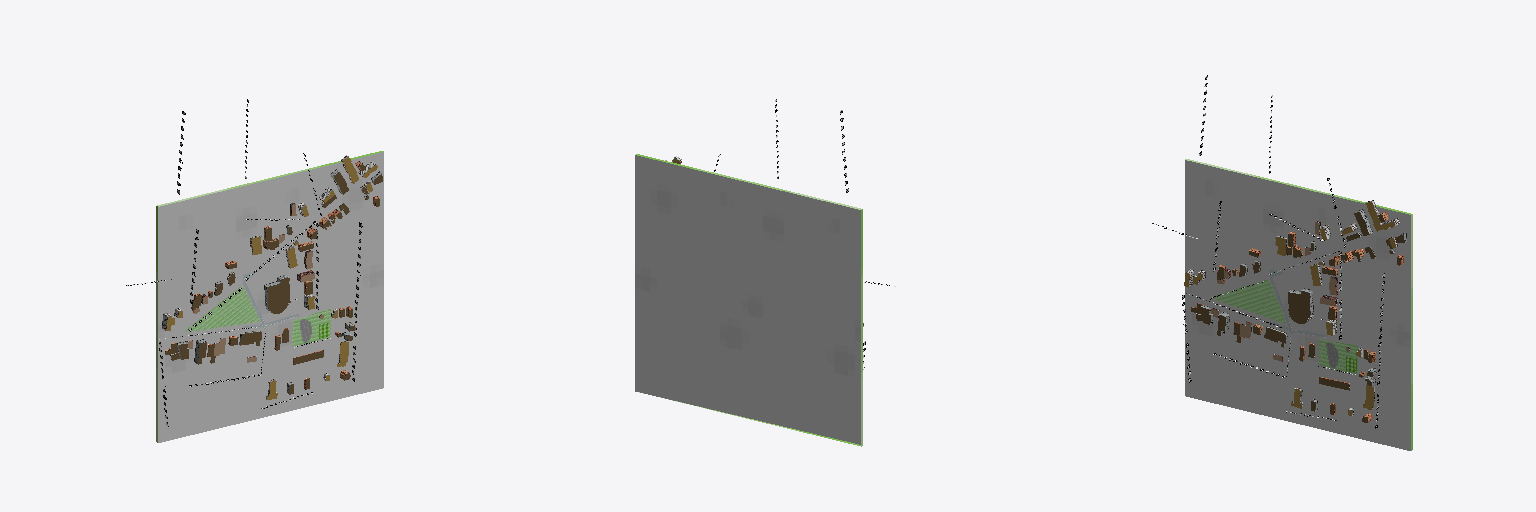
3 renders of one model, left to right at view 1: azimuth 30°, elevation 25°; view 2: azimuth 150°, elevation 25°; view 3: azimuth 330°, elevation 25°, orthographic.
Visible parts, largest first — view 1: POLYGON, BUILDING, FONT; view 2: POLYGON; view 3: POLYGON, BUILDING, FONT.
Part boxes in pixels (x1,y1,x2,y2): POLYGON: (156,151,383,442); BUILDING: (162,155,382,399); FONT: (126,99,362,426); POLYGON: (635,154,862,446); POLYGON: (1185,159,1412,450); BUILDING: (1184,200,1406,422); FONT: (1152,75,1384,428).
Bounding box in the file's own units: 700 × 852 × 29.
Materials: 4 (4 with a texture image).